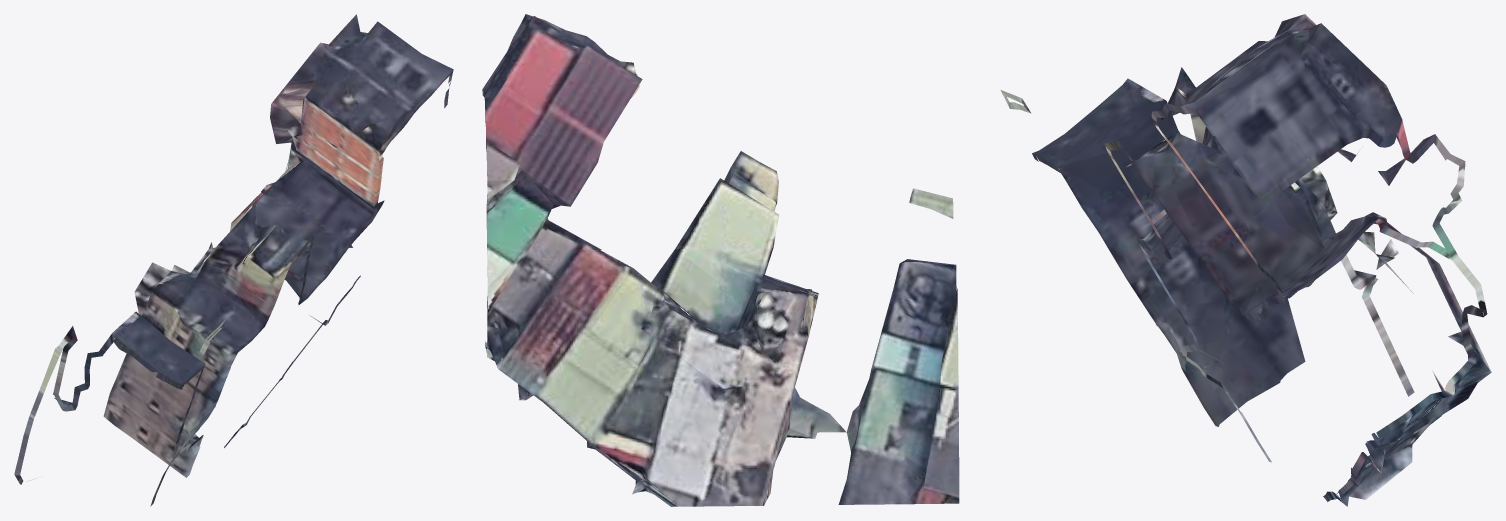
The picture shows the model from 3 angles, left to right: view 1: azimuth 30°, elevation 25°; view 2: azimuth 150°, elevation 25°; view 3: azimuth 270°, elevation 25°; orthographic projection. The views are drawn at different scales.
Size of the model in its own units: 40.83 by 36.45 by 28.82.
1 material, 1 textured.
